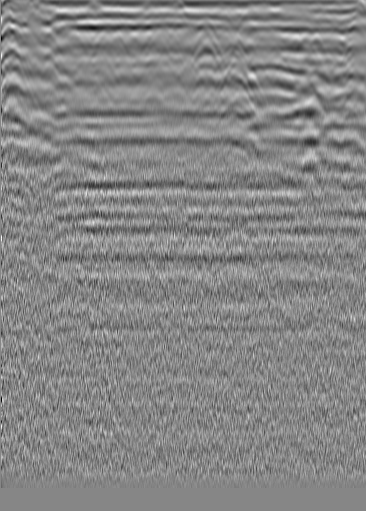가스: (218, 204, 252, 232)
상수: (305, 31, 325, 51)
오수: (25, 8, 45, 28)
우수: (160, 28, 180, 48)
